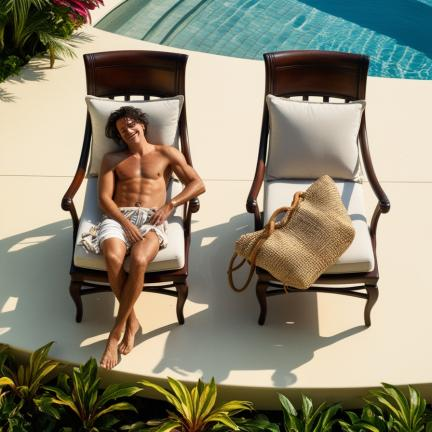guest on chair: (62, 51, 205, 369)
occupied chair: (228, 51, 390, 326)
